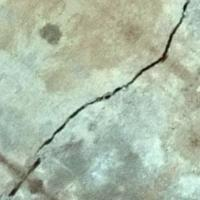crack: (3, 0, 190, 199)
